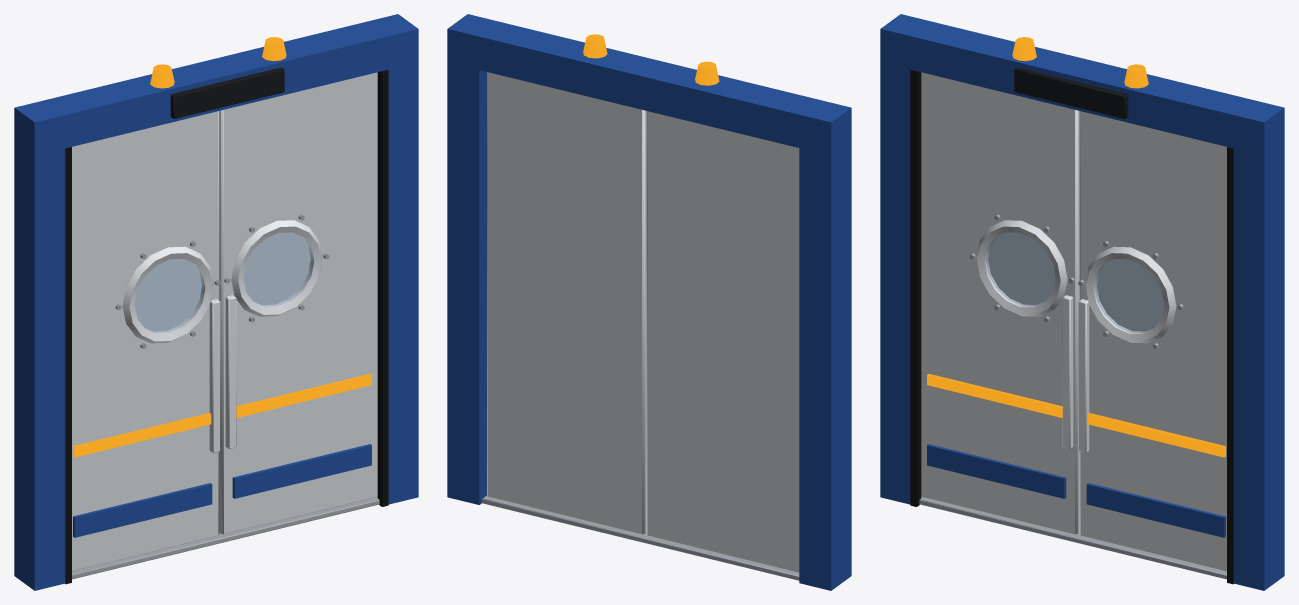
Rendered from door_airlock.glb.
3 views of the same model, side by side, from view 1: azimuth 30°, elevation 25°; view 2: azimuth 150°, elevation 25°; view 3: azimuth 330°, elevation 25° (orthographic).
Parts seen in each view (by area): view 1: body, leaf_r, leaf_l; view 2: leaf_r, leaf_l, body; view 3: body, leaf_l, leaf_r.
Part boxes in pixels (x1=…): body: x1=14, y1=14, x2=418, y2=590; leaf_r: x1=219, y1=72, x2=377, y2=534; leaf_l: x1=72, y1=111, x2=220, y2=571; leaf_r: x1=487, y1=72, x2=646, y2=534; leaf_l: x1=646, y1=111, x2=799, y2=572; body: x1=447, y1=14, x2=851, y2=590; body: x1=880, y1=14, x2=1284, y2=590; leaf_l: x1=921, y1=72, x2=1079, y2=534; leaf_r: x1=1078, y1=111, x2=1226, y2=571.
Bounding box in the file's own units: 2.4 × 2.89 × 0.25.
